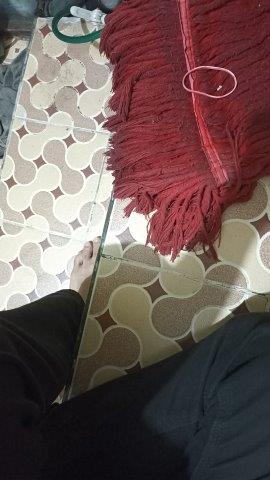karet: (182, 66, 237, 98)
